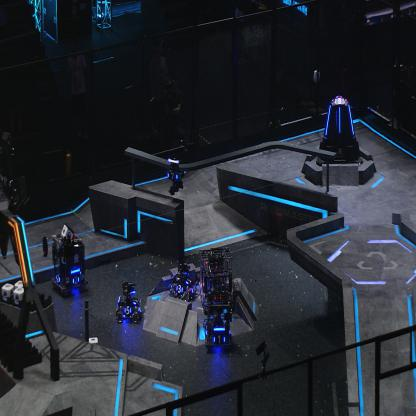car: (198, 247, 233, 314), (51, 232, 87, 296), (201, 290, 232, 349), (115, 280, 142, 324), (169, 260, 197, 301)
